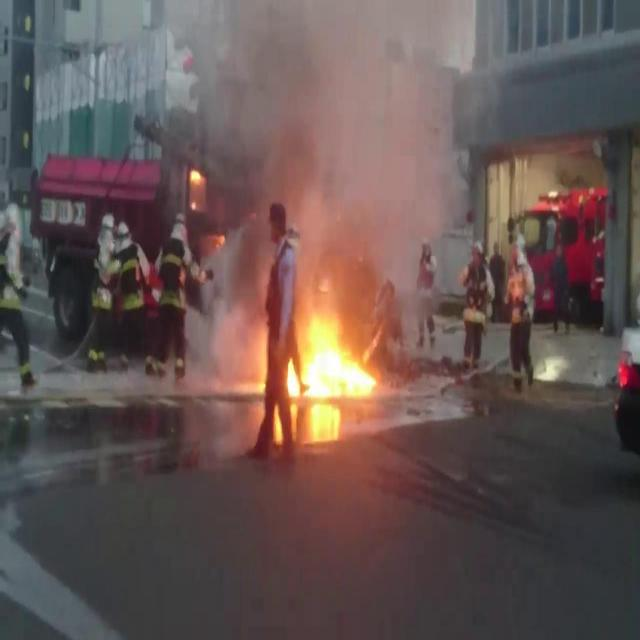fire: (286, 312, 386, 402)
